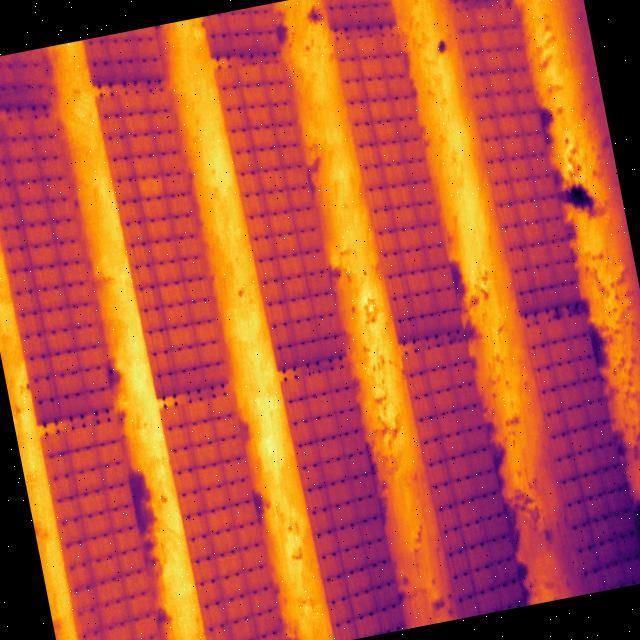Hotspot: (132, 175, 164, 201)
